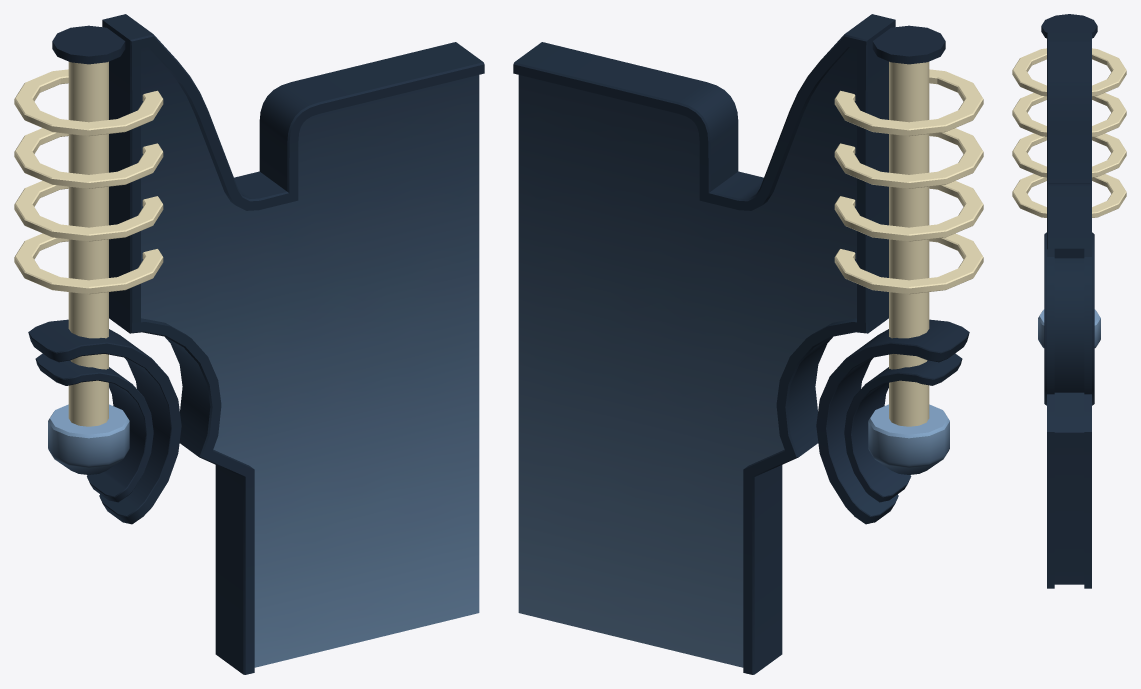
The model's file is ENV_Wall_Divider.FBX.
3 views of the same model, side by side, from view 1: azimuth 30°, elevation 25°; view 2: azimuth 150°, elevation 25°; view 3: azimuth 270°, elevation 25° (orthographic). The views are drawn at different scales.
Visible parts, largest first — view 1: ENV_Wall_Divider; view 2: ENV_Wall_Divider; view 3: ENV_Wall_Divider.
Part boxes in pixels (x1,y1,x2,y2): ENV_Wall_Divider: [14, 14, 484, 674]; ENV_Wall_Divider: [513, 14, 983, 674]; ENV_Wall_Divider: [1012, 14, 1126, 588].
Bounding box in the file's own units: 1193 × 1695 × 345.
Materials: 2 (2 with a texture image).
